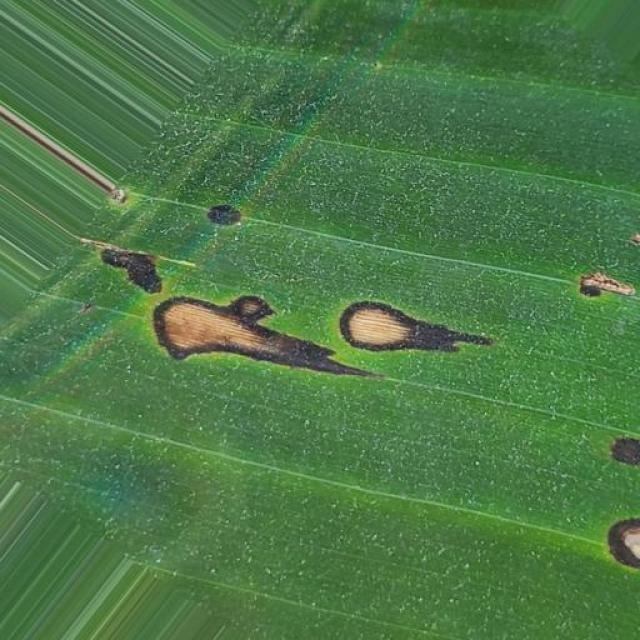Early_rust: (96, 161, 487, 419), (552, 228, 640, 584)
